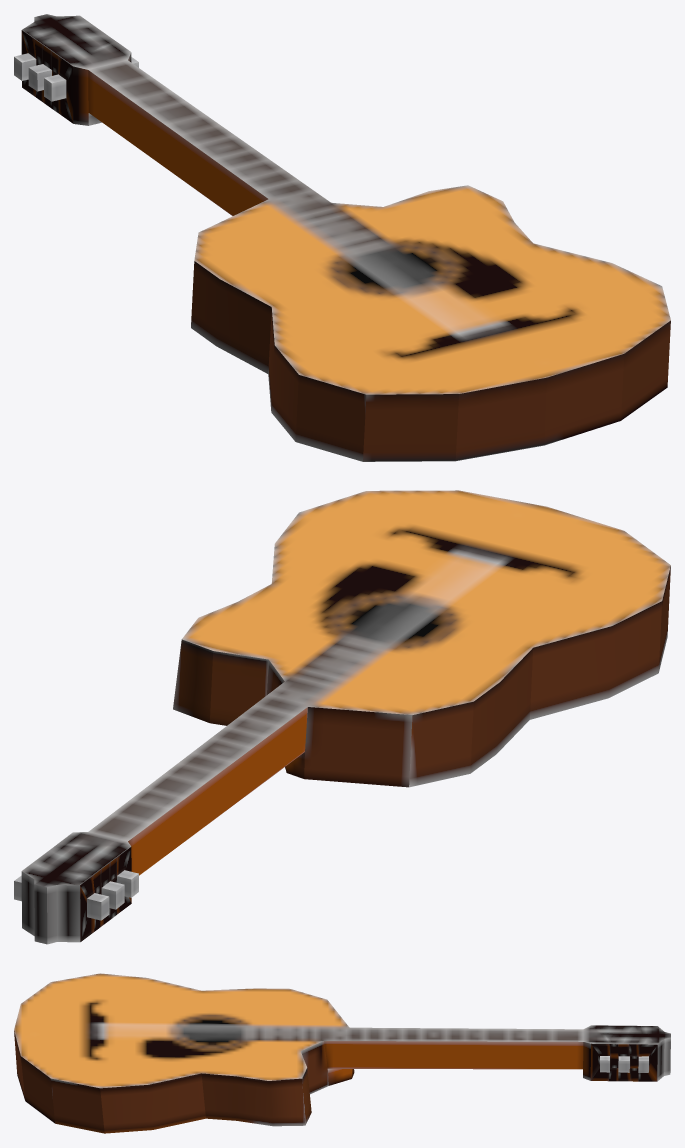
The model's file is guitarra-3.obj.
3 views of the same model, one above another, from view 1: azimuth 30°, elevation 25°; view 2: azimuth 150°, elevation 25°; view 3: azimuth 270°, elevation 25° (orthographic). The views are drawn at different scales.
Parts seen in each view (by area): view 1: Guitarra_2:pPlane4; view 2: Guitarra_2:pPlane4; view 3: Guitarra_2:pPlane4.
Boxes of the visible parts, bbox=[...] form: Guitarra_2:pPlane4: bbox=[14, 14, 670, 461]; Guitarra_2:pPlane4: bbox=[14, 490, 670, 944]; Guitarra_2:pPlane4: bbox=[14, 973, 670, 1133].
Bounding box in the file's own units: 5.2 × 1.04 × 12.56.
Materials: 1 (1 with a texture image).
